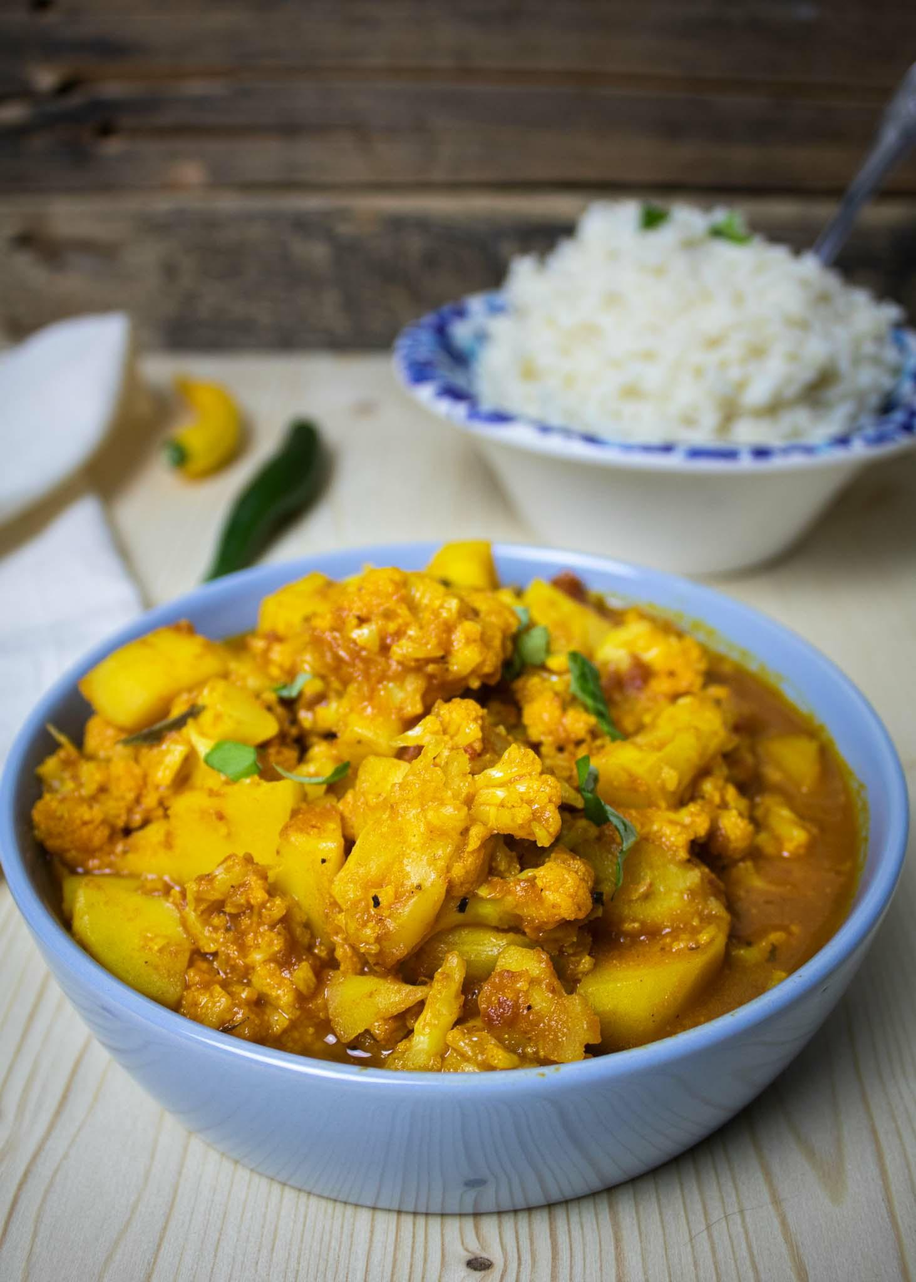AlooGobi: (26, 539, 857, 1076)
WhiteRice: (473, 196, 898, 452)
